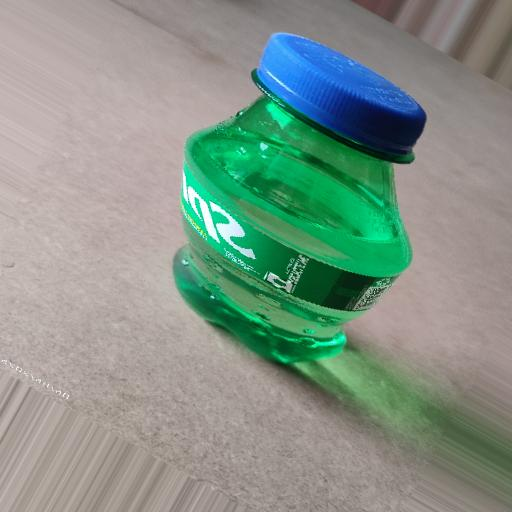Sprite: (133, 17, 435, 388)
